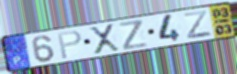4: (157, 13, 185, 45)
6: (30, 34, 56, 64)
P: (56, 29, 84, 61)
X: (87, 22, 122, 56)
Z: (117, 19, 150, 52), (181, 9, 214, 41)
